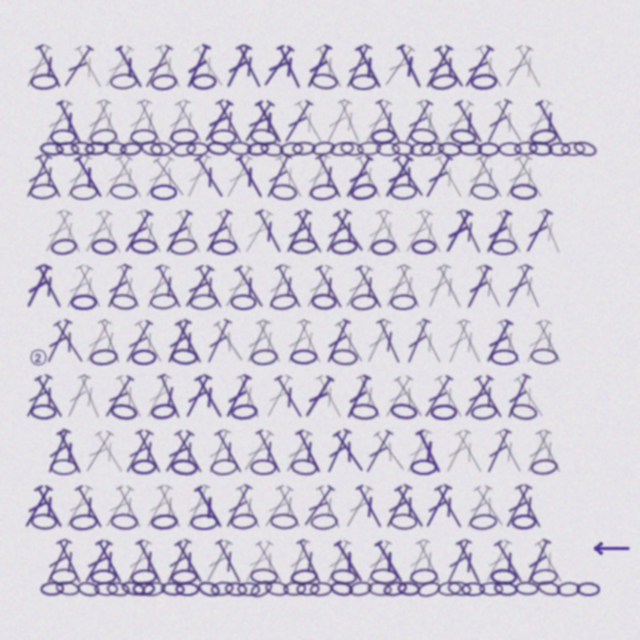chain: (248, 577, 275, 600), (349, 181, 378, 202), (429, 72, 458, 92), (89, 127, 118, 147), (249, 127, 278, 147), (449, 127, 478, 147), (529, 127, 558, 147), (269, 292, 298, 312), (109, 402, 138, 422), (509, 402, 538, 422), (409, 127, 438, 146), (169, 237, 198, 256), (389, 402, 418, 421), (310, 72, 338, 91), (470, 182, 498, 201), (50, 237, 78, 256), (309, 183, 338, 201), (189, 293, 218, 311), (89, 348, 118, 366), (69, 513, 98, 531), (469, 513, 498, 531), (572, 139, 598, 159), (196, 579, 222, 599), (416, 579, 442, 599), (150, 402, 177, 421), (150, 73, 178, 91), (270, 183, 298, 201), (330, 238, 358, 256), (110, 293, 138, 311), (350, 293, 378, 311), (250, 348, 278, 366), (330, 348, 358, 366), (230, 403, 258, 421), (470, 403, 498, 421), (170, 458, 198, 476), (210, 458, 238, 476), (290, 458, 318, 476), (530, 458, 558, 476), (150, 513, 178, 531), (130, 568, 158, 586), (170, 568, 198, 586), (290, 568, 318, 586), (330, 568, 358, 586), (530, 568, 558, 586), (120, 579, 146, 598), (382, 579, 408, 598), (536, 579, 562, 598), (29, 183, 58, 200), (370, 238, 397, 256), (30, 73, 58, 90), (170, 128, 198, 145), (170, 348, 198, 365), (530, 348, 558, 365), (350, 403, 378, 420), (30, 513, 58, 530), (110, 513, 138, 530), (230, 513, 258, 530), (270, 513, 298, 530), (310, 513, 338, 530), (250, 568, 278, 585), (370, 568, 398, 585), (410, 568, 438, 585), (139, 139, 164, 158), (171, 140, 197, 158), (259, 140, 285, 158), (329, 140, 355, 158), (339, 140, 365, 158), (141, 580, 167, 598), (110, 73, 137, 90), (470, 73, 497, 90), (370, 128, 397, 145), (110, 183, 137, 200), (390, 183, 417, 200), (510, 183, 537, 200), (130, 238, 157, 255), (290, 238, 317, 255), (150, 293, 177, 310), (390, 513, 417, 530), (50, 568, 77, 585), (490, 568, 517, 585), (76, 580, 101, 598), (70, 184, 98, 200), (490, 349, 518, 365), (190, 514, 218, 530), (191, 73, 217, 90), (91, 238, 117, 255), (311, 293, 337, 310), (264, 580, 290, 597), (350, 74, 377, 90), (50, 129, 77, 145), (130, 129, 157, 145), (210, 129, 237, 145), (150, 184, 177, 200), (210, 239, 237, 255), (490, 239, 517, 255), (70, 294, 97, 310), (230, 294, 257, 310), (390, 294, 417, 310), (290, 349, 317, 365), (30, 404, 57, 420), (430, 404, 457, 420), (50, 459, 77, 475), (250, 459, 277, 475), (410, 459, 437, 475), (90, 569, 117, 585), (70, 140, 95, 157), (311, 140, 336, 157), (528, 140, 553, 157), (55, 580, 80, 597), (329, 580, 354, 597), (348, 580, 373, 597), (447, 580, 472, 597), (493, 580, 518, 597), (411, 239, 437, 255), (131, 349, 157, 365), (131, 459, 157, 475), (511, 514, 537, 530), (206, 140, 230, 157), (391, 140, 415, 157), (210, 580, 234, 597), (39, 141, 64, 157), (55, 141, 80, 157), (279, 141, 304, 157), (409, 141, 434, 157), (420, 141, 445, 157), (437, 141, 462, 157), (160, 581, 185, 597), (367, 581, 392, 597), (556, 581, 581, 597), (119, 141, 143, 157), (246, 141, 270, 157), (106, 581, 130, 597), (224, 581, 248, 597), (309, 581, 333, 597), (84, 141, 109, 156), (437, 581, 462, 596), (103, 141, 127, 156), (228, 141, 252, 156), (292, 141, 316, 156), (357, 141, 381, 156), (458, 141, 482, 156), (514, 141, 538, 156), (40, 581, 64, 596), (515, 581, 539, 596), (132, 581, 155, 596), (283, 581, 306, 596), (397, 581, 420, 596), (376, 142, 400, 156), (498, 142, 522, 156), (561, 142, 585, 156), (94, 582, 118, 596), (175, 582, 199, 596), (296, 582, 320, 596), (461, 582, 485, 596), (479, 582, 503, 596), (576, 582, 600, 596), (150, 142, 173, 156), (186, 142, 209, 156), (477, 142, 500, 156), (548, 142, 571, 156), (237, 582, 260, 596)
double: (378, 43, 418, 90), (370, 428, 410, 475), (298, 483, 338, 530), (58, 43, 97, 91), (50, 318, 89, 366), (390, 373, 429, 421), (510, 373, 549, 421), (258, 483, 297, 531), (150, 154, 190, 200), (190, 43, 229, 90), (258, 43, 297, 90), (390, 153, 429, 200), (330, 208, 369, 255), (210, 318, 249, 365), (238, 428, 277, 475), (330, 428, 369, 475), (470, 483, 509, 530), (99, 43, 137, 91), (431, 43, 469, 91), (459, 43, 497, 91), (239, 98, 277, 146), (439, 98, 477, 146), (139, 153, 177, 201), (191, 153, 229, 201), (179, 263, 217, 311), (219, 263, 257, 311), (231, 263, 269, 311), (331, 318, 369, 366), (99, 373, 137, 421), (299, 373, 337, 421), (79, 428, 117, 476), (91, 428, 129, 476), (159, 428, 197, 476), (99, 483, 137, 531), (391, 483, 429, 531), (239, 538, 277, 586), (71, 43, 108, 91), (139, 43, 176, 91), (171, 98, 208, 146), (279, 98, 316, 146), (291, 98, 328, 146), (399, 98, 436, 146), (451, 98, 488, 146), (71, 153, 108, 201), (99, 153, 136, 201), (379, 153, 416, 201), (431, 153, 468, 201), (511, 153, 548, 201), (39, 208, 76, 256), (79, 208, 116, 256), (119, 208, 156, 256), (239, 208, 276, 256), (291, 208, 328, 256), (399, 208, 436, 256), (339, 263, 376, 311), (131, 318, 168, 366), (31, 373, 68, 421), (191, 373, 228, 421), (271, 373, 308, 421), (419, 373, 456, 421), (431, 373, 468, 421), (471, 373, 508, 421), (171, 428, 208, 476), (211, 428, 248, 476), (451, 428, 488, 476), (19, 483, 56, 531), (31, 483, 68, 531), (191, 483, 228, 531), (431, 483, 468, 531), (79, 538, 116, 586), (171, 538, 208, 586), (371, 538, 408, 586), (491, 538, 528, 586), (531, 538, 568, 586), (212, 97, 248, 146), (200, 207, 236, 256), (520, 207, 556, 256), (20, 262, 56, 311), (300, 262, 336, 311), (500, 262, 536, 311), (480, 317, 516, 366), (20, 372, 56, 421), (112, 372, 148, 421), (260, 372, 296, 421), (312, 372, 348, 421), (140, 482, 176, 531), (352, 482, 388, 531), (92, 537, 128, 586), (200, 537, 236, 586), (199, 98, 236, 145), (491, 98, 528, 145), (459, 373, 496, 420), (331, 538, 368, 585), (112, 43, 148, 91), (312, 43, 348, 91), (420, 43, 456, 91), (472, 43, 508, 91), (500, 43, 536, 91), (40, 98, 76, 146), (520, 98, 556, 146), (532, 98, 568, 146), (112, 153, 148, 201), (220, 153, 256, 201), (232, 153, 268, 201), (272, 153, 308, 201), (340, 153, 376, 201), (420, 153, 456, 201), (472, 153, 508, 201), (160, 208, 196, 256), (440, 208, 476, 256), (60, 263, 96, 311), (192, 263, 228, 311), (312, 263, 348, 311), (352, 263, 388, 311), (120, 318, 156, 366), (380, 373, 416, 421), (120, 428, 156, 476), (280, 428, 316, 476), (360, 428, 396, 476), (60, 483, 96, 531), (72, 483, 108, 531), (340, 483, 376, 531), (252, 538, 288, 586), (20, 42, 55, 91), (32, 42, 67, 91), (152, 42, 187, 91), (220, 42, 255, 91), (232, 42, 267, 91), (340, 42, 375, 91), (512, 42, 547, 91), (80, 97, 115, 146), (320, 97, 355, 146), (372, 97, 407, 146), (20, 152, 55, 201), (32, 152, 67, 201), (312, 152, 347, 201), (172, 207, 207, 256), (252, 207, 287, 256), (280, 207, 315, 256), (320, 207, 355, 256), (360, 207, 395, 256), (372, 207, 407, 256), (32, 262, 67, 311), (72, 262, 107, 311), (152, 262, 187, 311), (272, 262, 307, 311), (380, 262, 415, 311), (472, 262, 507, 311), (80, 317, 115, 366), (252, 317, 287, 366), (520, 317, 555, 366), (532, 317, 567, 366), (180, 372, 215, 421), (220, 372, 255, 421), (132, 427, 167, 476), (252, 427, 287, 476), (292, 427, 327, 476), (412, 427, 447, 476), (440, 427, 475, 476), (492, 427, 527, 476), (532, 427, 567, 476), (220, 482, 255, 531), (272, 482, 307, 531), (380, 482, 415, 531), (420, 482, 455, 531), (500, 482, 535, 531), (512, 482, 547, 531), (132, 537, 167, 586), (212, 537, 247, 586), (412, 537, 447, 586), (480, 537, 515, 586), (352, 43, 387, 91), (252, 98, 287, 146), (360, 98, 395, 146), (352, 153, 387, 201), (500, 153, 535, 201), (172, 318, 207, 366), (112, 483, 147, 531), (301, 42, 335, 91), (393, 42, 427, 91), (121, 97, 155, 146), (133, 97, 167, 146), (413, 97, 447, 146), (481, 97, 515, 146), (181, 152, 215, 201), (261, 152, 295, 201), (461, 152, 495, 201), (53, 207, 87, 256), (133, 207, 167, 256), (413, 207, 447, 256), (453, 207, 487, 256), (101, 262, 135, 311), (41, 317, 75, 366), (161, 317, 195, 366), (201, 317, 235, 366), (293, 317, 327, 366), (361, 317, 395, 366), (453, 317, 487, 366), (141, 372, 175, 421), (353, 372, 387, 421), (321, 427, 355, 476), (401, 427, 435, 476), (481, 427, 515, 476), (521, 427, 555, 476), (153, 482, 187, 531), (41, 537, 75, 586), (53, 537, 87, 586), (161, 537, 195, 586), (293, 537, 327, 586), (441, 537, 475, 586), (53, 98, 87, 146), (61, 153, 95, 201), (93, 208, 127, 256), (213, 208, 247, 256), (481, 208, 515, 256), (493, 208, 527, 256), (433, 263, 467, 311), (461, 263, 495, 311), (413, 318, 447, 366), (53, 428, 87, 476), (461, 483, 495, 531), (121, 538, 155, 586), (361, 538, 395, 586), (181, 42, 214, 91), (93, 97, 126, 146), (161, 97, 194, 146), (301, 152, 334, 201), (113, 262, 146, 311), (393, 262, 426, 311), (513, 262, 546, 311), (241, 317, 274, 366), (281, 317, 314, 366), (321, 317, 354, 366), (373, 317, 406, 366), (401, 317, 434, 366), (61, 372, 94, 421), (233, 372, 266, 421), (501, 372, 534, 421), (181, 482, 214, 531), (521, 537, 554, 586), (273, 43, 306, 91), (141, 263, 174, 311), (341, 373, 374, 421), (233, 483, 266, 531), (313, 483, 346, 531), (321, 538, 354, 586), (453, 538, 486, 586), (334, 97, 366, 146), (534, 207, 566, 256), (262, 262, 294, 311), (422, 262, 454, 311), (94, 317, 126, 366), (442, 317, 474, 366), (494, 317, 526, 366), (74, 372, 106, 421), (154, 372, 186, 421), (42, 427, 74, 476), (202, 427, 234, 476), (402, 537, 434, 586), (283, 537, 313, 586)
noise: (591, 541, 630, 556), (28, 347, 48, 367)
